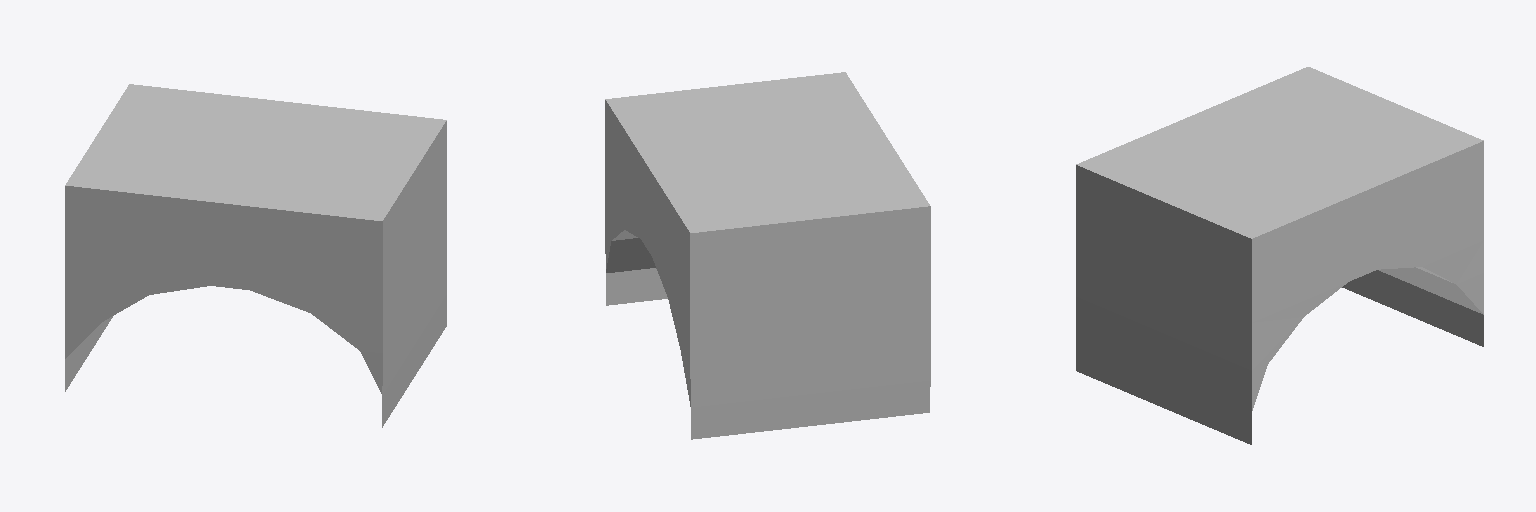
Rendered from sandstone_diagonal_single_arch_stepped.obj.
3 views of the same model, side by side, from view 1: azimuth 30°, elevation 25°; view 2: azimuth 150°, elevation 25°; view 3: azimuth 270°, elevation 25° (orthographic).
Visible parts, largest first — view 1: sandstone_diagonal_single_arch_stepped; view 2: sandstone_diagonal_single_arch_stepped; view 3: sandstone_diagonal_single_arch_stepped.
Boxes of the visible parts, x1,y1,x2,y2 form: sandstone_diagonal_single_arch_stepped: [65, 84, 446, 427]; sandstone_diagonal_single_arch_stepped: [605, 72, 930, 439]; sandstone_diagonal_single_arch_stepped: [1076, 67, 1483, 444].
Bounding box in the file's own units: 1.79 × 1 × 1.79.